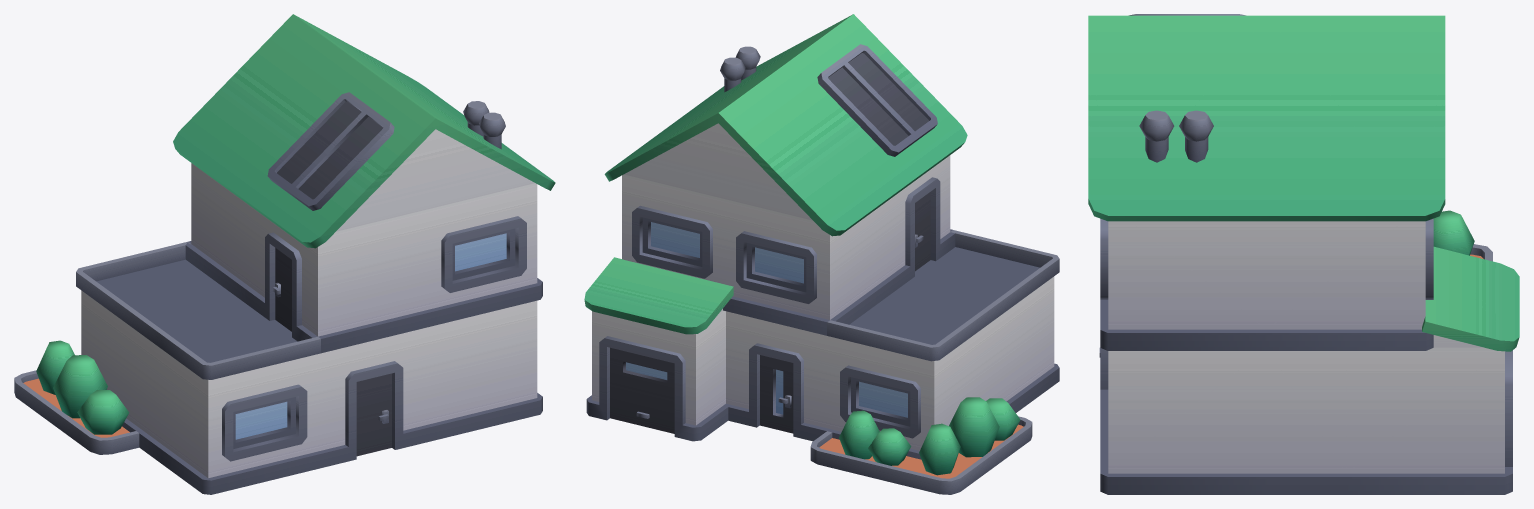
The model's file is building-type-u.glb.
3 renders of one model, left to right at view 1: azimuth 30°, elevation 25°; view 2: azimuth 150°, elevation 25°; view 3: azimuth 270°, elevation 25°, orthographic. The views are drawn at different scales.
Parts seen in each view (by area): view 1: building-type-u; view 2: building-type-u; view 3: building-type-u.
Part boxes in pixels (box(x1,y1,x2,y2)): building-type-u: box(14, 14, 555, 494); building-type-u: box(584, 14, 1059, 494); building-type-u: box(1088, 14, 1519, 494).
Bounding box in the file's own units: 1.43 × 1.14 × 1.09.
1 material, 1 textured.
